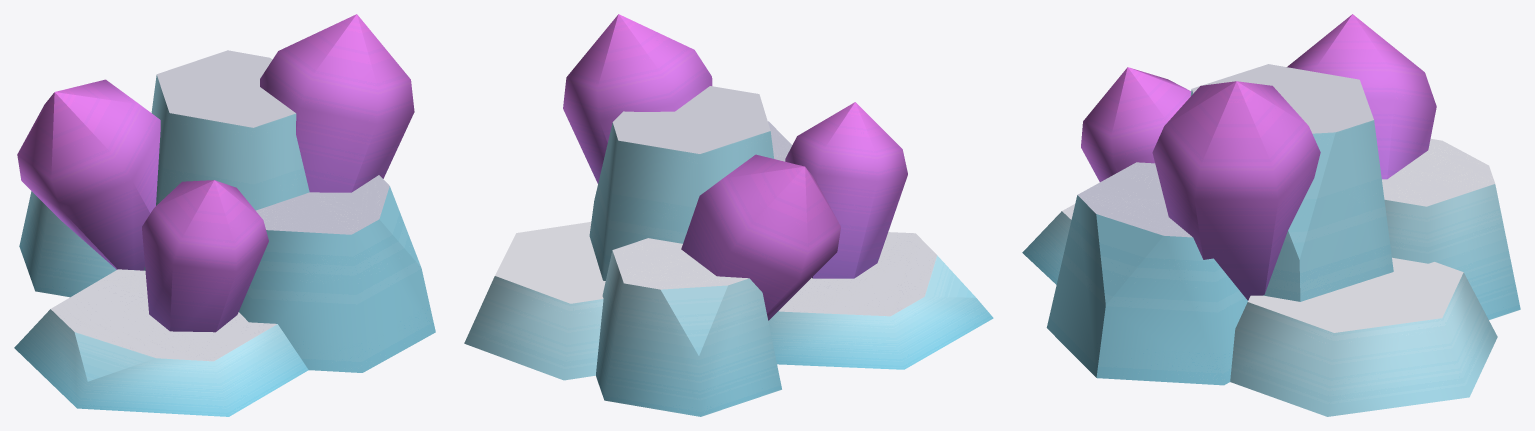
File: tower-defense-kit--snow-detail-crystal-large.glb
3 renders of one model, left to right at view 1: azimuth 30°, elevation 25°; view 2: azimuth 150°, elevation 25°; view 3: azimuth 270°, elevation 25°, orthographic. The views are drawn at different scales.
Parts seen in each view (by area): view 1: snow-detail-crystal-large; view 2: snow-detail-crystal-large; view 3: snow-detail-crystal-large.
Boxes of the visible parts, box(x1,y1,x2,y2) form: snow-detail-crystal-large: box(14, 14, 435, 416); snow-detail-crystal-large: box(464, 14, 993, 416); snow-detail-crystal-large: box(1022, 14, 1520, 416).
Size of the model in its own units: 0.8922 by 0.5518 by 0.8593.
Materials: 1 (1 with a texture image).
